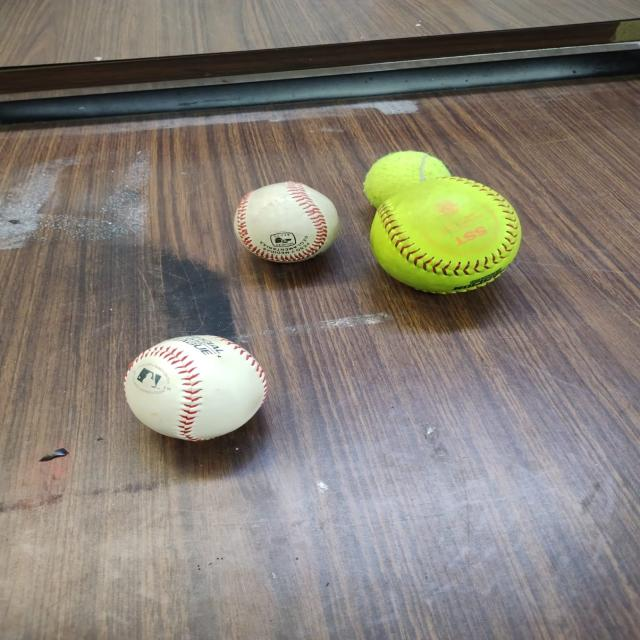beisbol ball: (118, 326, 277, 444), (233, 181, 343, 262)
softball ball: (367, 176, 522, 292)
tenis ball: (361, 150, 450, 208)
